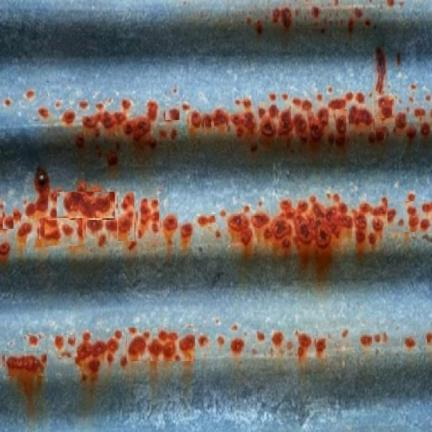karat: (6, 170, 195, 249), (196, 96, 396, 143), (231, 204, 395, 251), (74, 329, 198, 371), (74, 110, 158, 139)
